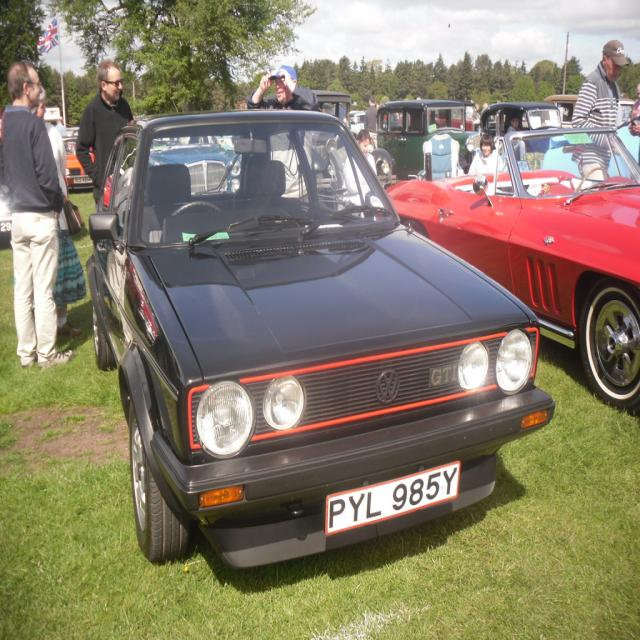Person: (0, 39, 640, 371)
